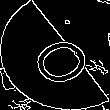O_NE: (16, 23, 94, 87)
